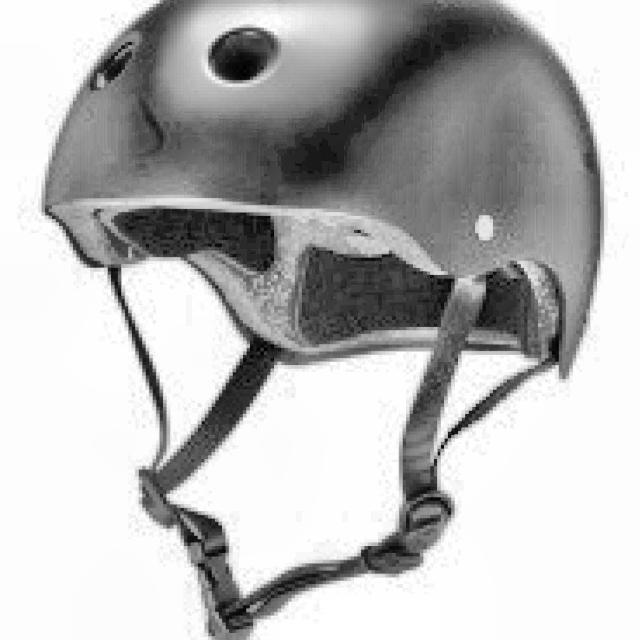Helmet: (14, 0, 612, 630)
